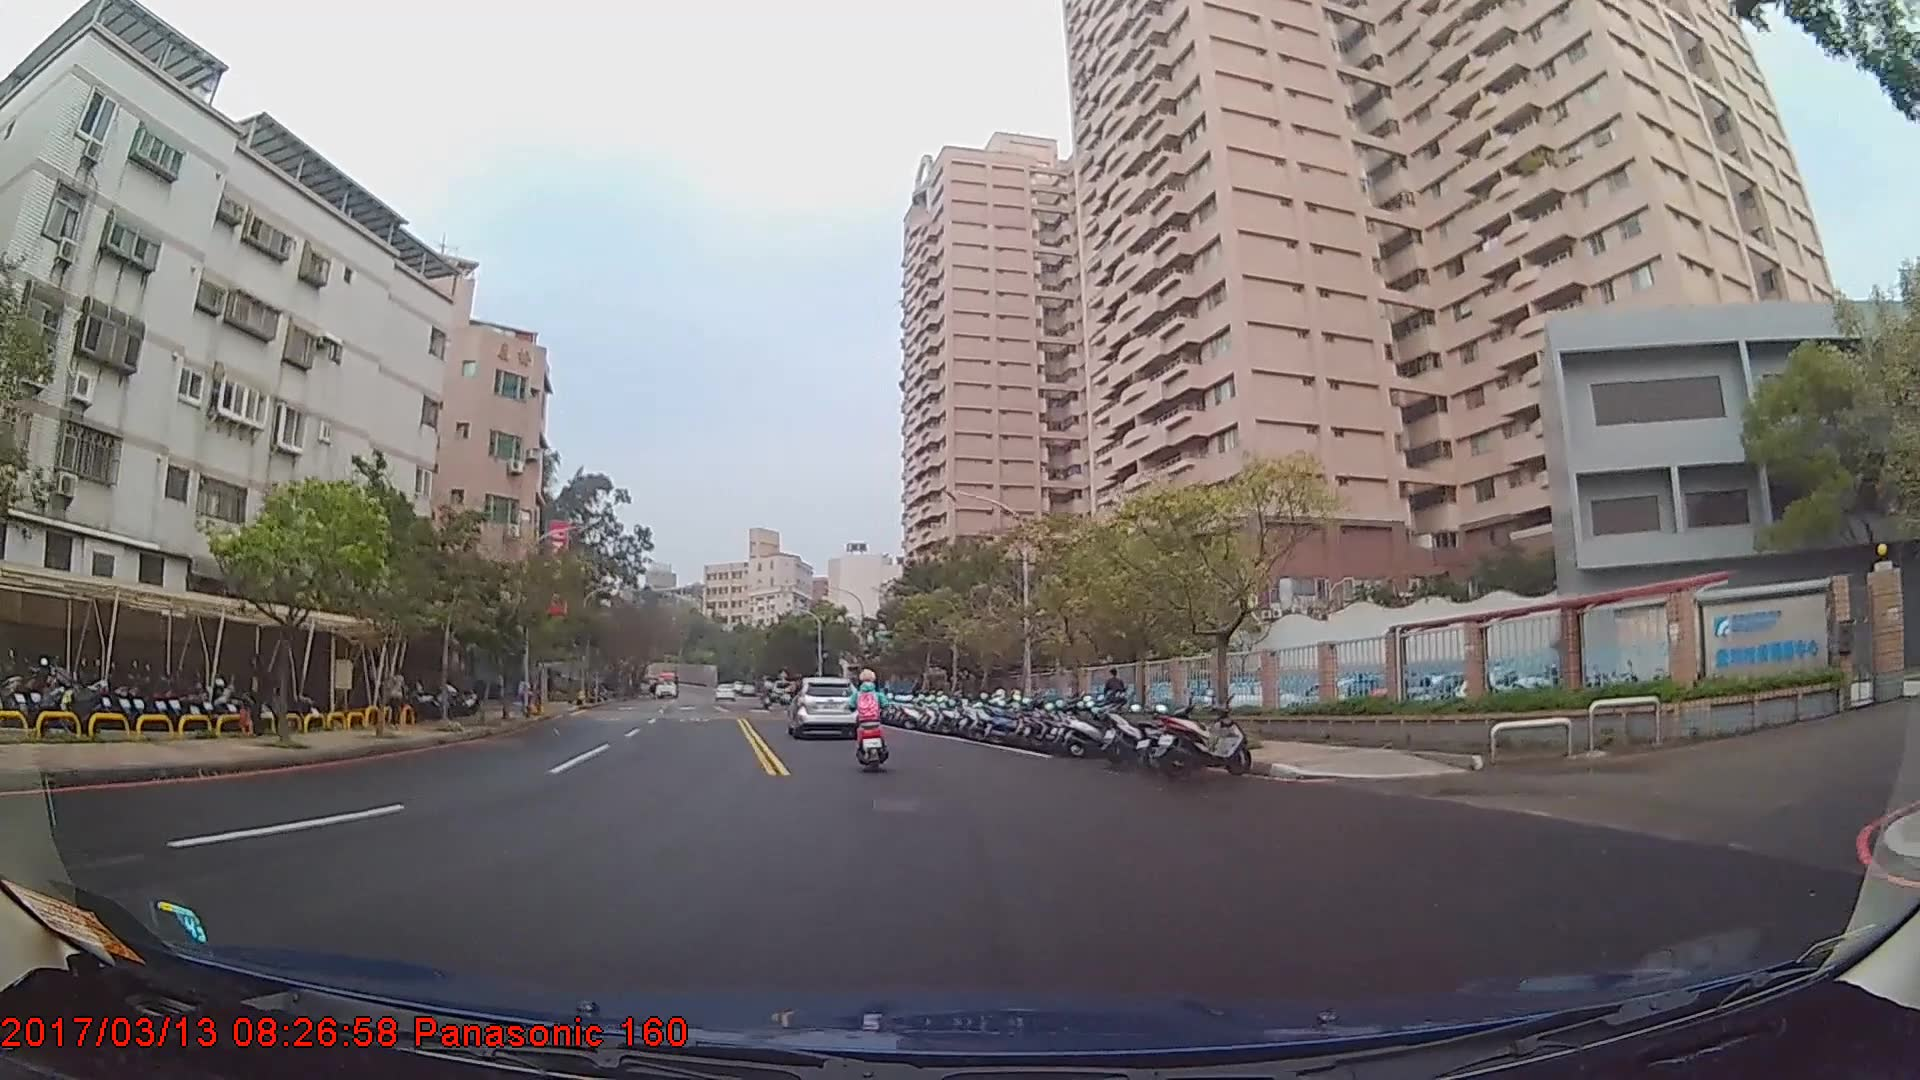pedestrian: (245, 652, 273, 740), (384, 661, 408, 731), (1104, 669, 1129, 732)
rider: (850, 669, 892, 769)
vehicle: (789, 674, 858, 739), (649, 671, 679, 700)
